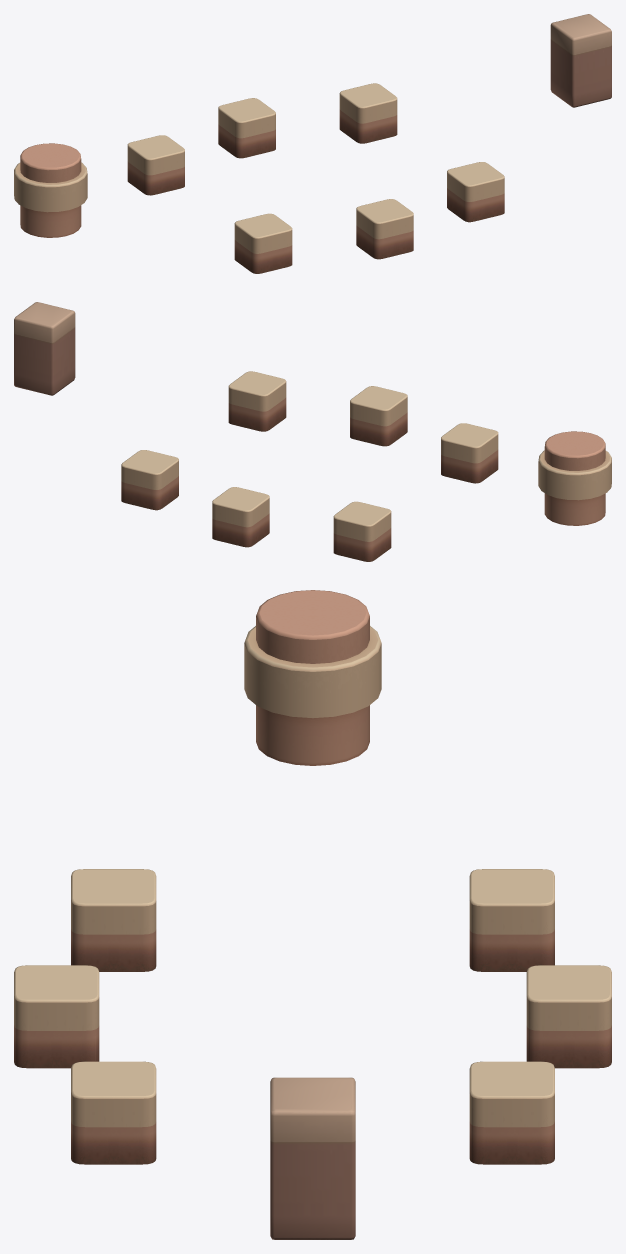
File: Props.fbx
3 views of the same model, one above another, from view 1: azimuth 30°, elevation 25°; view 2: azimuth 150°, elevation 25°; view 3: azimuth 270°, elevation 25° (orthographic). The views are drawn at different scales.
Parts seen in each view (by area): view 1: Cylinder, Box03, Box01, Box01 (3), Box01 (1), Box01 (5), Box01 (2), Box01 (4); view 2: Cylinder, Box03, Box01 (2), Box01 (1), Box01 (3), Box01 (4), Box01, Box01 (5); view 3: Cylinder, Box03, Box01 (1), Box01 (3), Box01 (4), Box01 (5), Box01, Box01 (2).
Part boxes in pixels (bbox=[...]): Cylinder: bbox=[14, 143, 87, 237]; Box03: bbox=[550, 14, 611, 107]; Box01: bbox=[234, 213, 292, 273]; Box01 (3): bbox=[339, 83, 397, 143]; Box01 (1): bbox=[447, 162, 504, 222]; Box01 (5): bbox=[218, 98, 275, 158]; Box01 (2): bbox=[127, 135, 184, 195]; Box01 (4): bbox=[356, 199, 413, 259]; Cylinder: bbox=[538, 431, 611, 525]; Box03: bbox=[14, 302, 75, 395]; Box01 (2): bbox=[333, 501, 391, 561]; Box01 (1): bbox=[228, 371, 286, 431]; Box01 (3): bbox=[121, 450, 178, 510]; Box01 (4): bbox=[350, 386, 407, 446]; Box01: bbox=[441, 423, 498, 483]; Box01 (5): bbox=[212, 487, 269, 547]; Cylinder: bbox=[244, 590, 381, 765]; Box03: bbox=[270, 1077, 355, 1239]; Box01 (1): bbox=[71, 1061, 156, 1164]; Box01 (3): bbox=[469, 1061, 554, 1164]; Box01 (4): bbox=[14, 965, 99, 1068]; Box01 (5): bbox=[526, 965, 611, 1068]; Box01: bbox=[71, 869, 156, 971]; Box01 (2): bbox=[469, 869, 554, 971].
Size of the model in its own units: 43.91 by 7.62 by 21.
